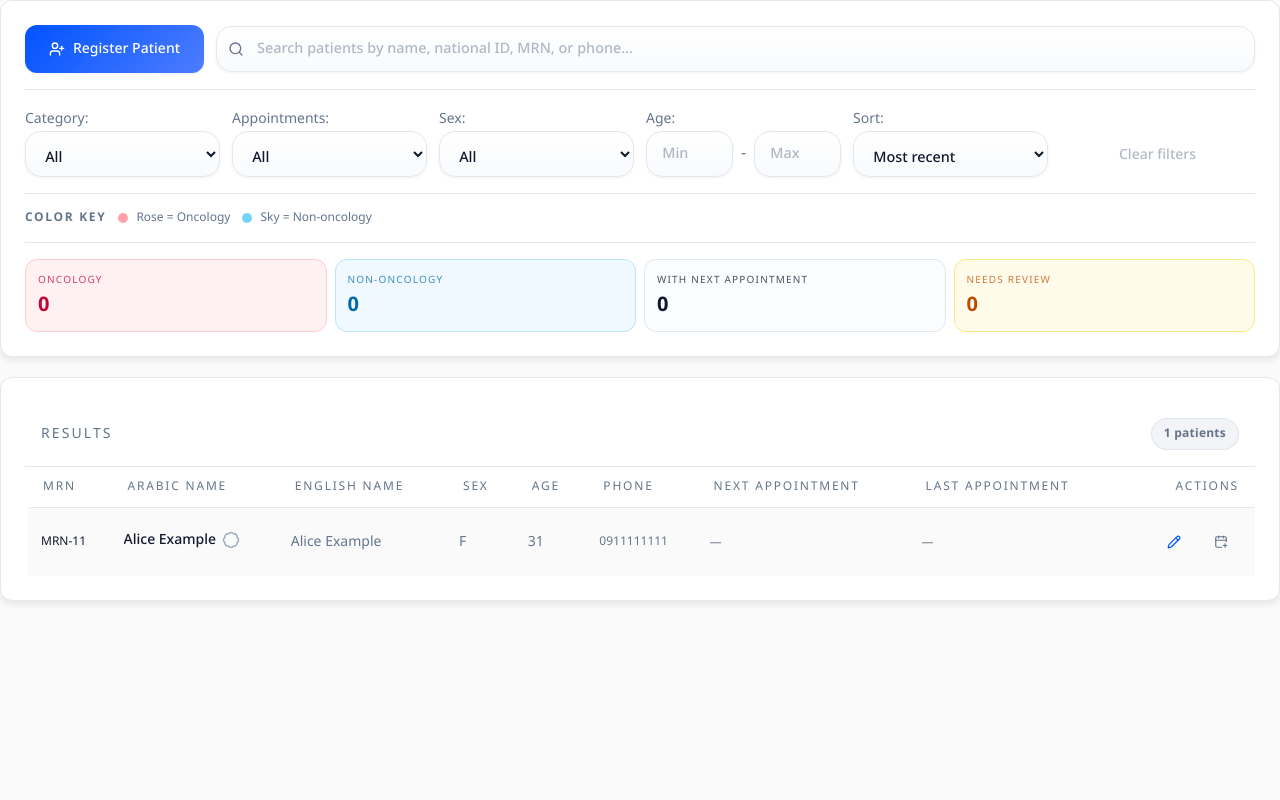
Test case: PatientsPage interactions › shows the primary identifier when national id is missing
expect the text "Alice Example" is shown: met, box [124,530,216,550]
Click the button "Alice Example".
click(641, 542)  # box [27,508,1255,576]
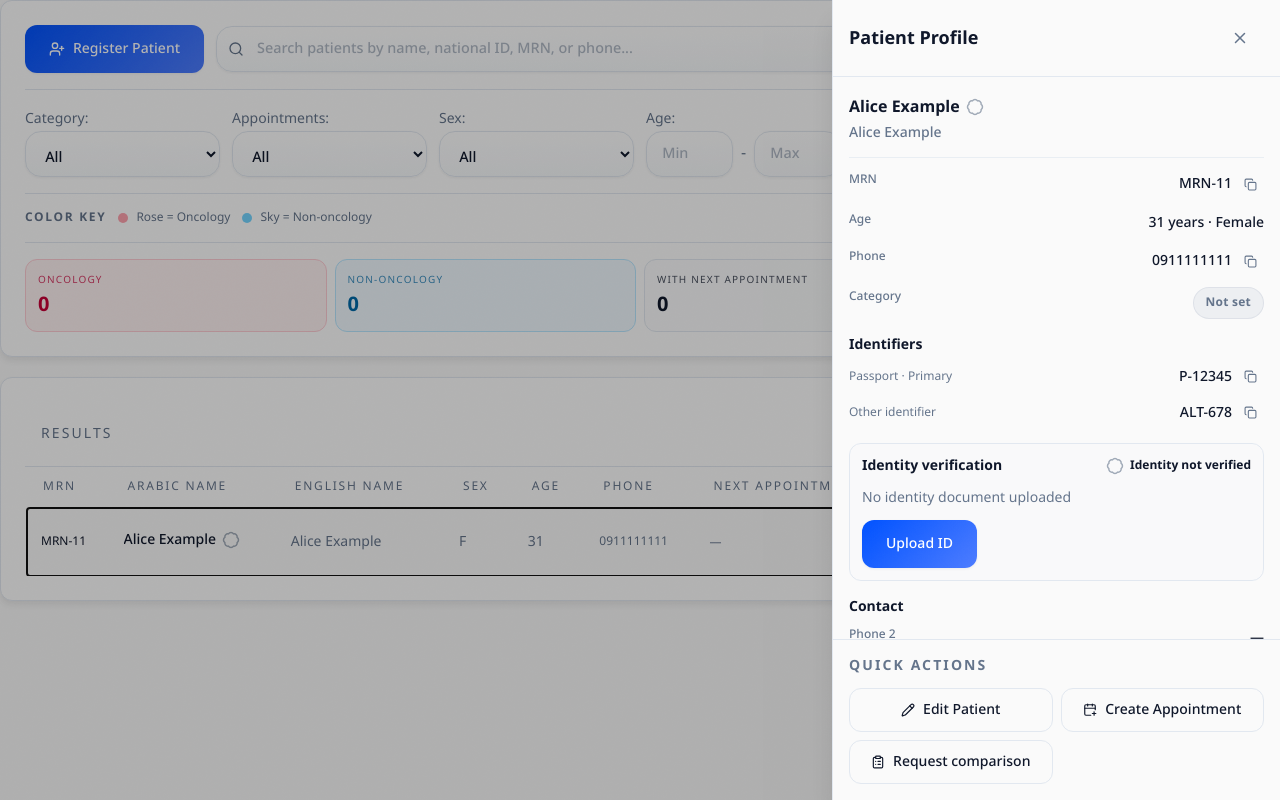
expect the heading "Patient Profile" is shown: met, box [849,24,978,52]
expect the text "Passport · Primary" is shown: met, box [849,369,952,385]
expect the text "P-12345" is shown: met, box [1179,365,1232,389]
